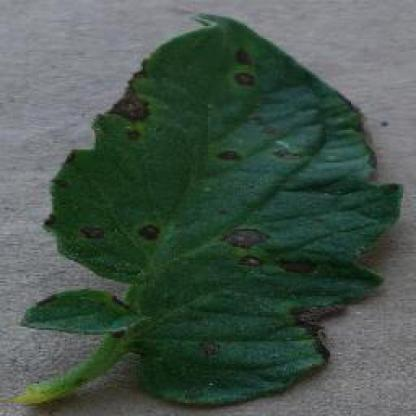Tomato_Blight: (21, 13, 401, 404)
